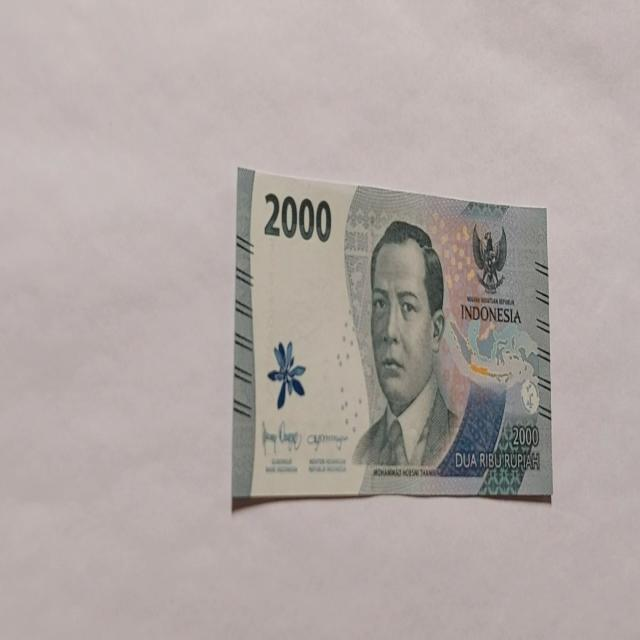dua ribu rupiah: (232, 165, 552, 505), (351, 218, 462, 489)
